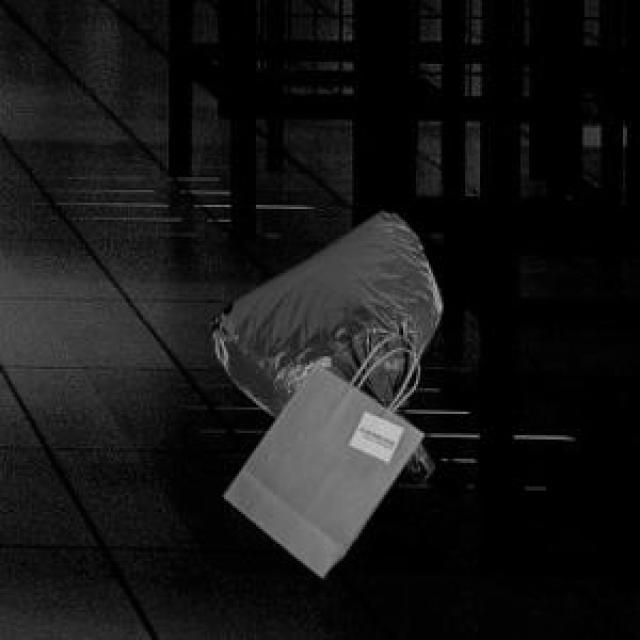miscellaneous trash: (207, 207, 437, 480)
paper: (220, 361, 420, 574)
